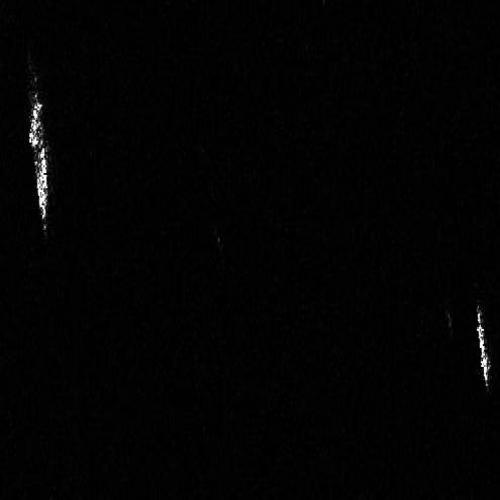ship: (27, 99, 50, 224), (475, 303, 492, 389)
